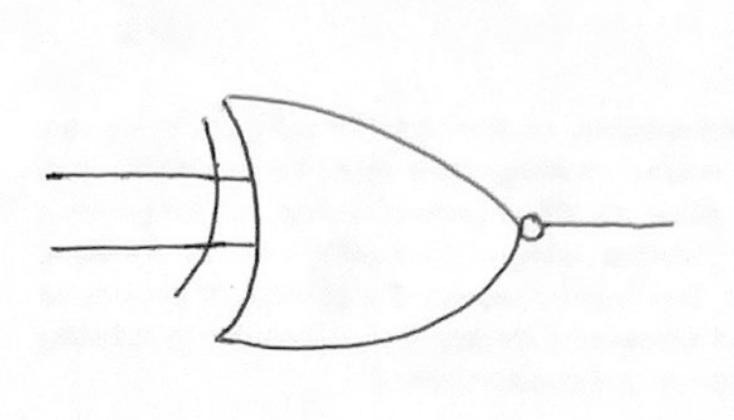XNOR: (168, 75, 577, 367)
